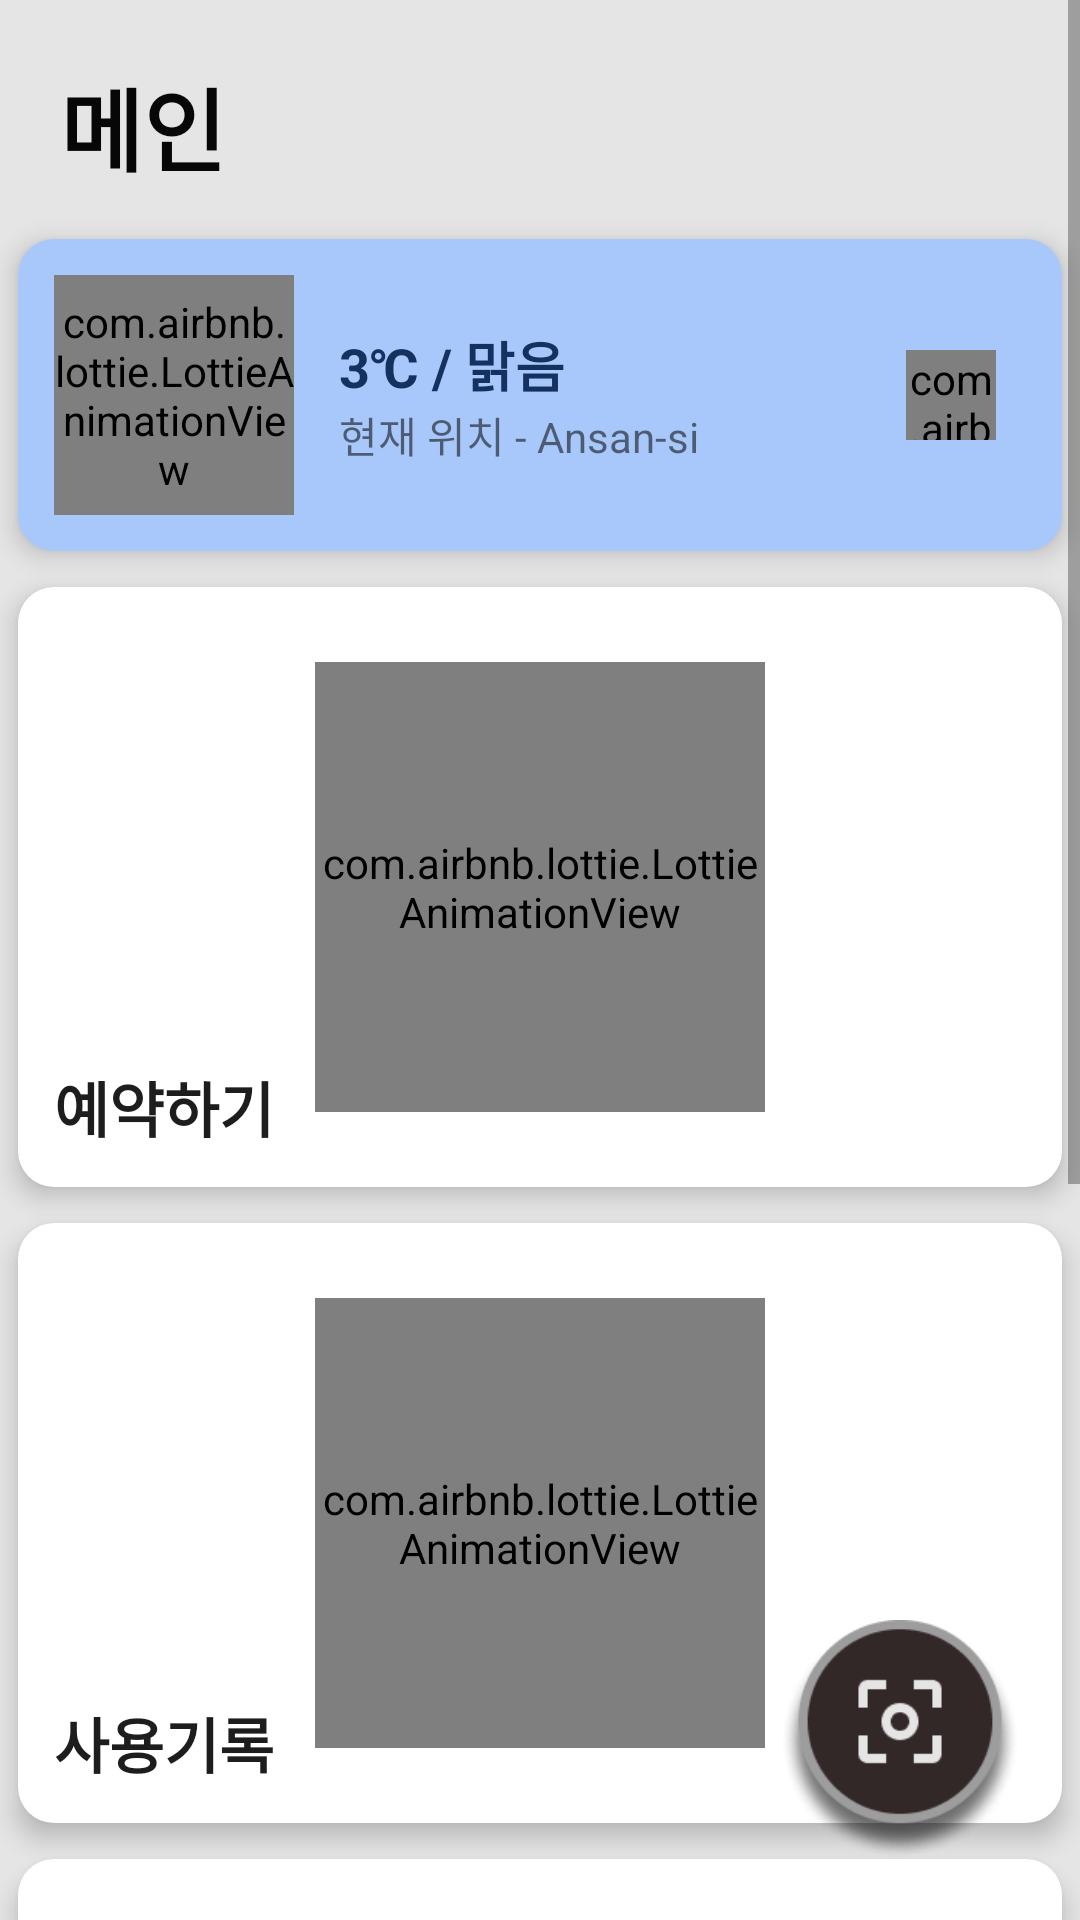

Named icons in this screenshot (1080 x 1920) and their bounding boxes, (x1, y1, x2, y2):
quick qr: (780, 1620, 1020, 1859)
